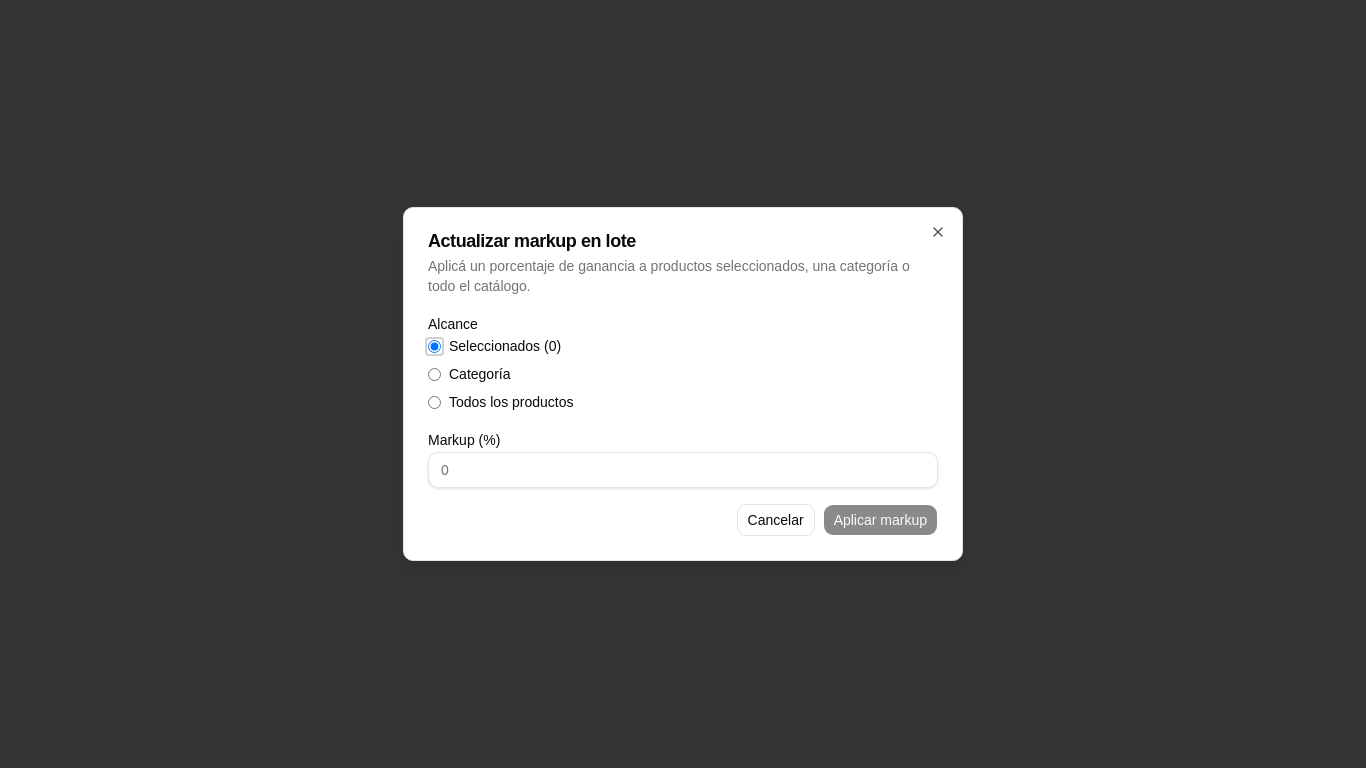
Scenario: BulkMarkupDialog › requires explicit confirmation for all scope
The width and height of the screenshot is (1366, 768).
Click the radio button labelled "Todos los productos" at (434, 402), box [428, 396, 441, 408]
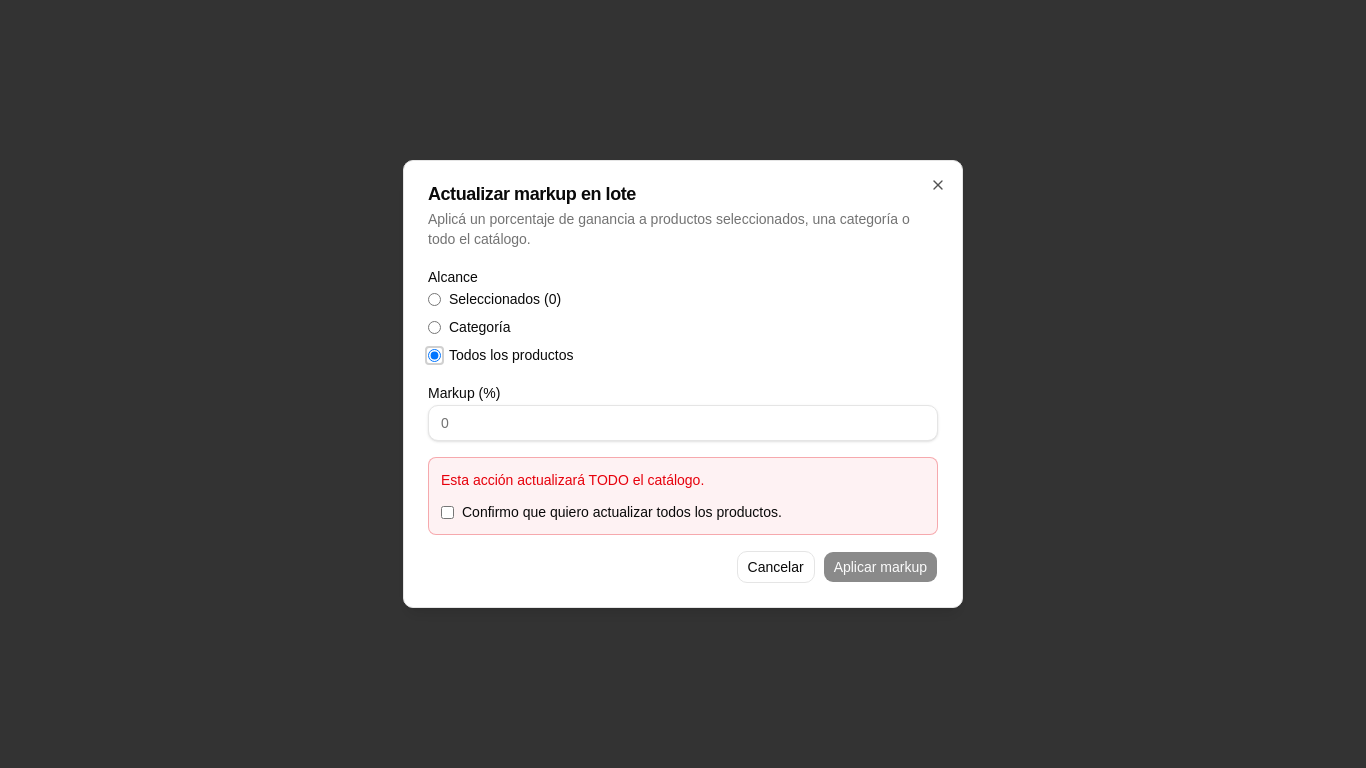
Type "20" into the number field labelled "Markup (%)" at (683, 423), box [428, 405, 938, 441]
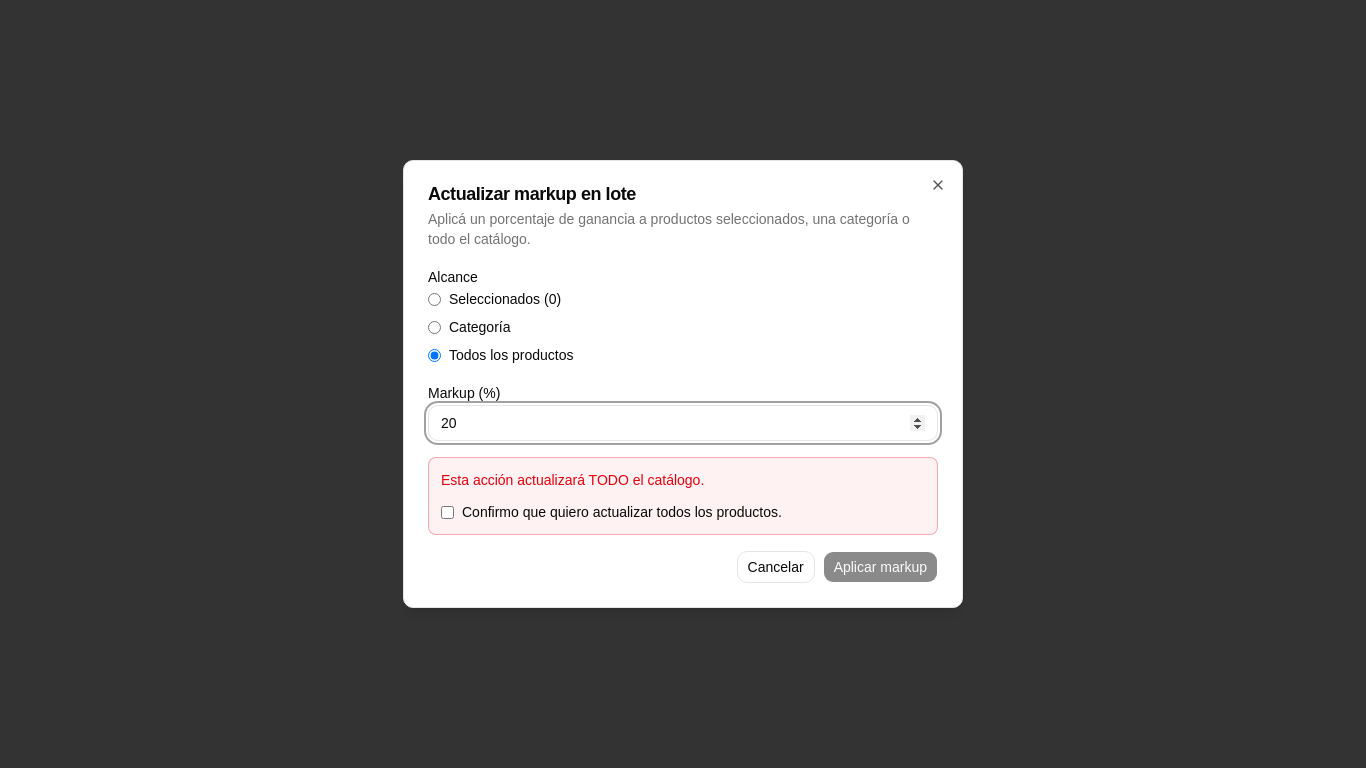
Expected: the button "Aplicar markup" is disabled, [823, 551, 938, 583]
Now the text "Esta acción actualizará TODO el catálogo." is shown, box [441, 472, 704, 488]
Click the checkbox labelled "Confirmo que quiero actualizar todos los productos." at (448, 512), box [441, 506, 454, 518]
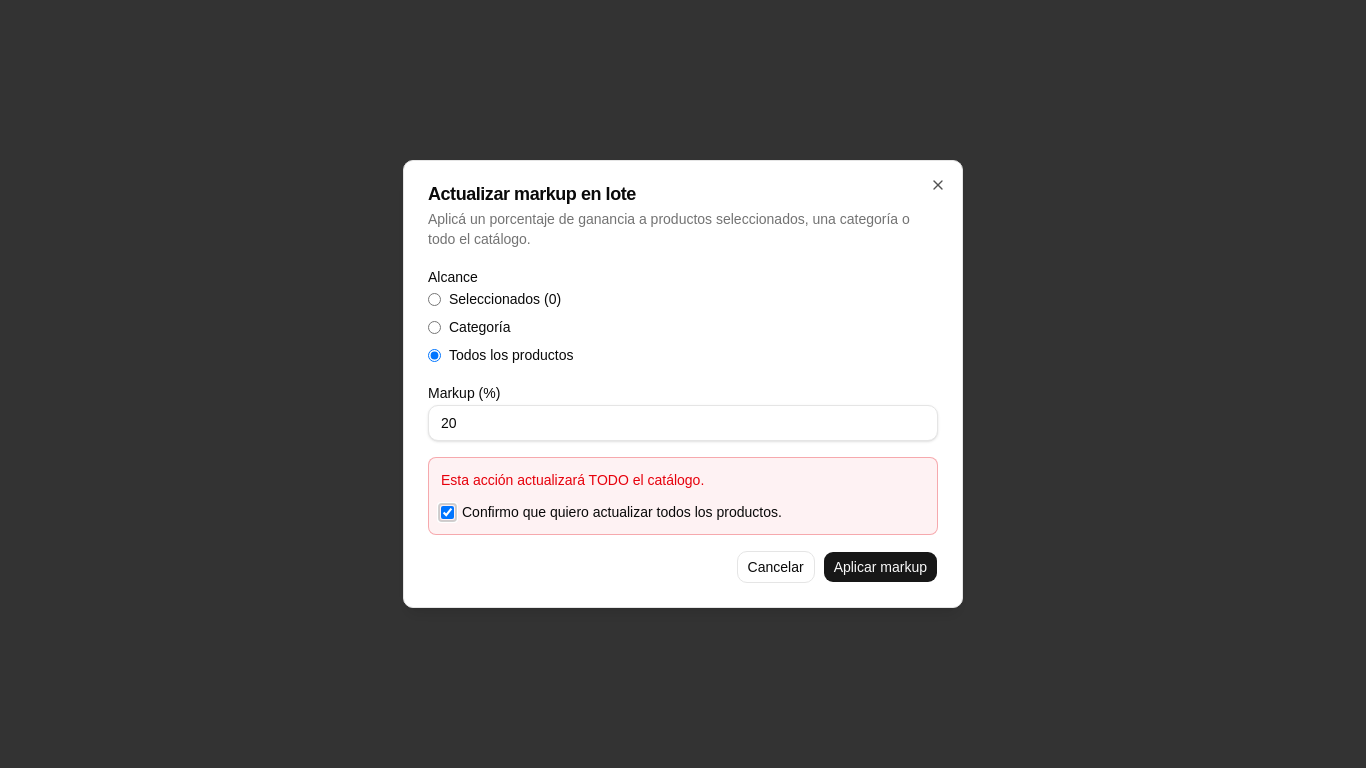
Now the button "Aplicar markup" is enabled, box [823, 551, 938, 583]
